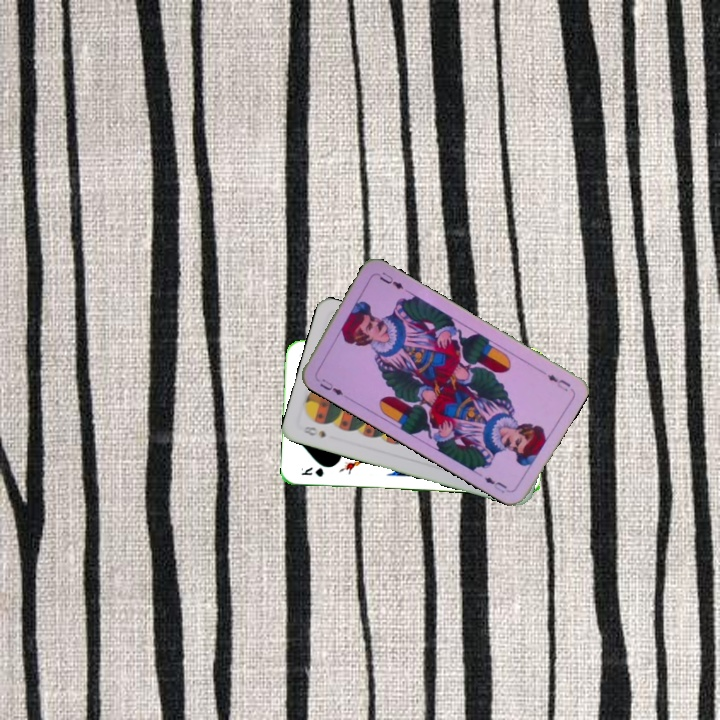EU: (316, 374, 349, 401), (544, 370, 573, 394)
GK: (297, 463, 326, 479)
S8: (299, 422, 328, 440)
